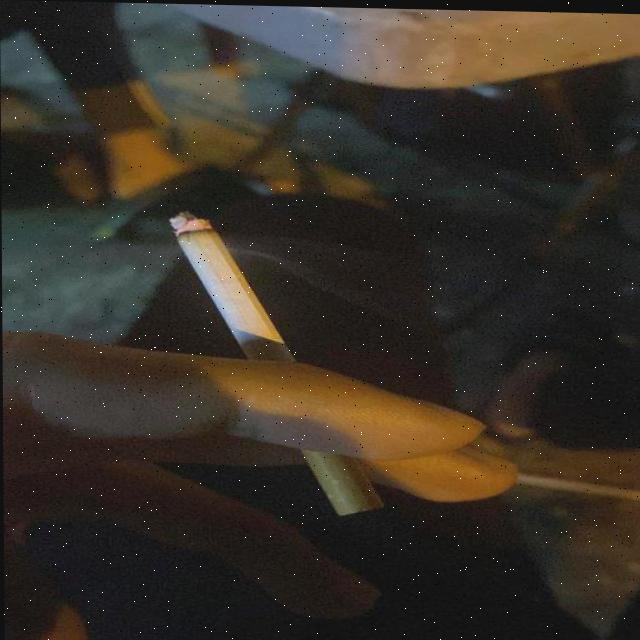cigarette: (168, 212, 386, 516)
